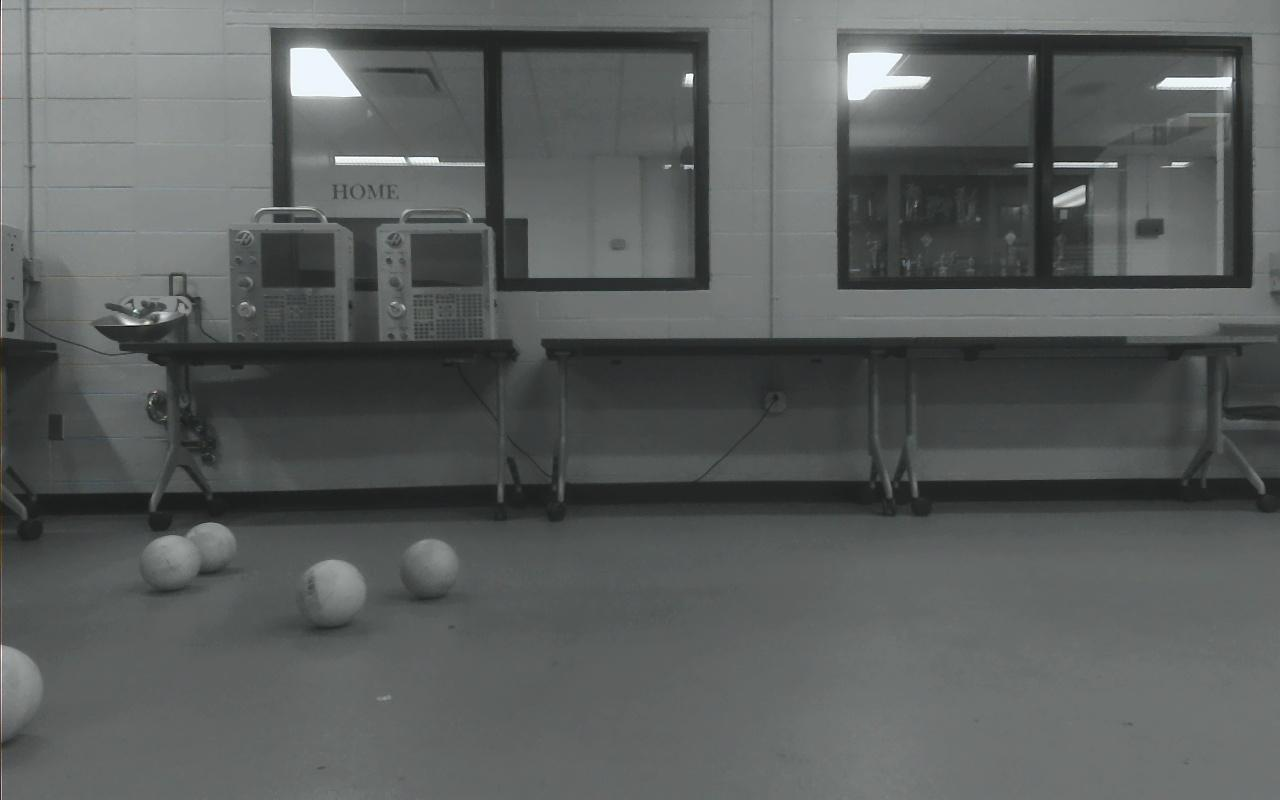Fuel: (297, 559, 366, 628), (0, 645, 44, 741), (399, 538, 458, 599), (138, 535, 198, 592), (184, 522, 237, 574)
